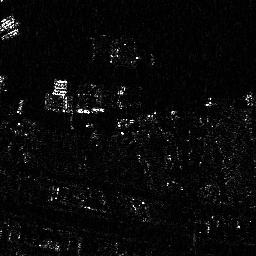ship: (1, 26, 20, 43)
